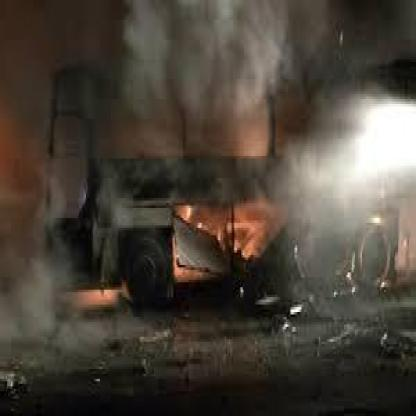fire: (142, 175, 292, 290)
smoke: (17, 0, 362, 115)
